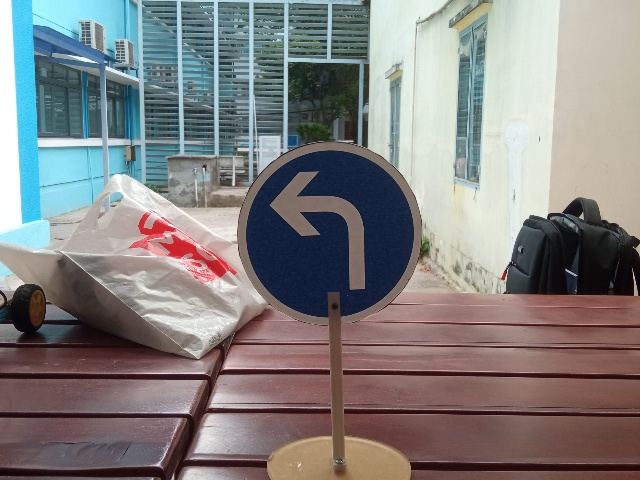Left_Sign: (238, 141, 422, 326)
